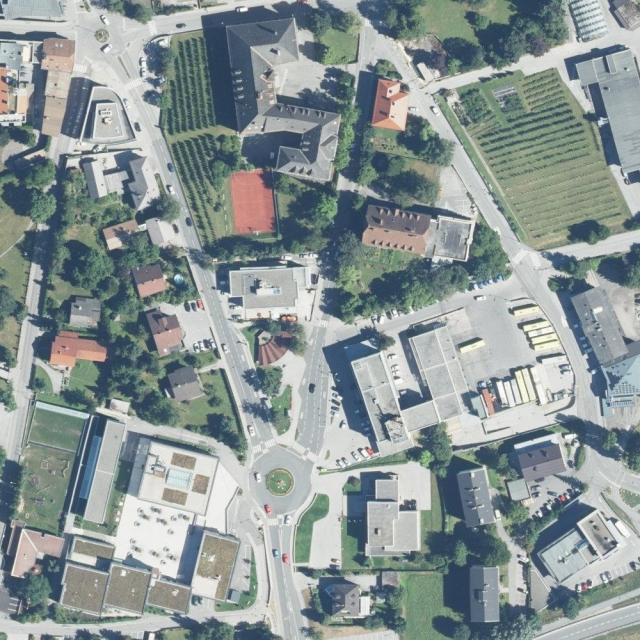building: (236, 97, 344, 185), (226, 17, 306, 131), (344, 336, 416, 458), (409, 324, 478, 422), (136, 441, 219, 514), (569, 283, 633, 367), (82, 419, 127, 524), (366, 474, 422, 556), (229, 266, 311, 319), (81, 84, 143, 151), (0, 39, 45, 127), (188, 530, 241, 603), (360, 203, 432, 256), (536, 526, 598, 586), (11, 527, 66, 586), (511, 431, 570, 484), (101, 562, 152, 621), (56, 562, 111, 616), (456, 466, 496, 529), (120, 155, 163, 212), (600, 350, 640, 411), (50, 330, 108, 371), (145, 304, 188, 358), (576, 509, 622, 559), (371, 78, 413, 132), (319, 578, 371, 618), (66, 534, 116, 571), (146, 577, 193, 615), (470, 566, 500, 622), (165, 363, 205, 404), (101, 218, 143, 252), (131, 261, 168, 299), (401, 400, 441, 433), (41, 37, 76, 72), (81, 158, 109, 201), (145, 217, 183, 248), (68, 296, 102, 329), (505, 476, 532, 504), (104, 169, 131, 197)
greenland: (458, 58, 640, 264), (136, 27, 266, 247), (360, 0, 569, 74), (336, 98, 461, 216), (319, 244, 474, 338), (255, 173, 379, 290), (78, 311, 184, 446), (7, 403, 87, 535), (169, 366, 251, 474), (41, 165, 138, 255), (52, 231, 163, 304), (22, 276, 82, 363), (0, 199, 31, 366), (212, 550, 278, 626), (319, 65, 365, 172), (185, 399, 260, 462), (294, 0, 363, 68), (404, 414, 469, 480), (284, 489, 334, 567), (12, 571, 83, 624), (458, 74, 526, 126), (402, 572, 454, 639), (153, 244, 205, 308), (426, 528, 511, 567), (28, 401, 86, 454), (504, 503, 564, 554), (156, 617, 283, 639), (472, 438, 526, 485), (468, 222, 509, 282), (91, 1, 198, 23), (37, 378, 100, 415), (579, 570, 640, 608), (205, 234, 285, 262), (101, 276, 148, 323), (421, 472, 444, 551), (438, 470, 466, 532), (45, 225, 72, 288), (375, 586, 406, 634), (149, 192, 185, 227), (68, 358, 102, 391), (584, 220, 613, 251), (557, 594, 586, 622), (62, 629, 132, 639), (596, 428, 622, 454), (0, 377, 17, 412), (547, 274, 575, 291), (363, 615, 384, 631), (0, 631, 8, 639)
metalled_road: (443, 131, 624, 431), (186, 252, 284, 464), (94, 389, 252, 482), (294, 325, 334, 455), (0, 613, 179, 640), (407, 86, 464, 142), (52, 73, 99, 140), (378, 30, 424, 86), (246, 531, 273, 619), (432, 64, 499, 94), (356, 18, 380, 71), (213, 604, 269, 626), (46, 132, 77, 167), (31, 222, 52, 265), (188, 595, 217, 620)
